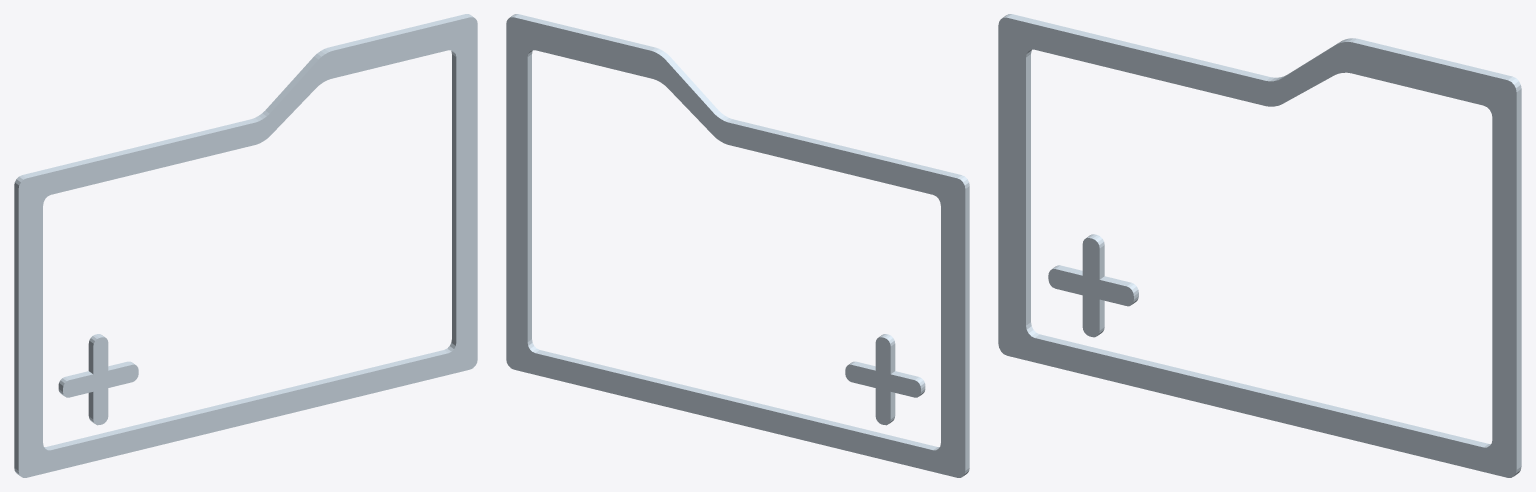
Rendered from Folder_Add_3D_Icon.fbx.
3 views of the same model, side by side, from view 1: azimuth 30°, elevation 25°; view 2: azimuth 150°, elevation 25°; view 3: azimuth 330°, elevation 25° (orthographic). The views are drawn at different scales.
Visible parts, largest first — view 1: Folder_Add_3D_Icon; view 2: Folder_Add_3D_Icon; view 3: Folder_Add_3D_Icon.
Boxes of the visible parts, x1,y1,x2,y2 form: Folder_Add_3D_Icon: (14,14,477,477); Folder_Add_3D_Icon: (506,14,969,477); Folder_Add_3D_Icon: (998,14,1521,477).
Bounding box in the file's own units: 119 × 87.12 × 2.
